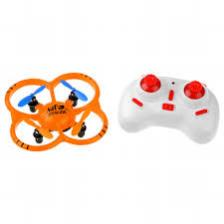drone: (0, 62, 118, 160)
